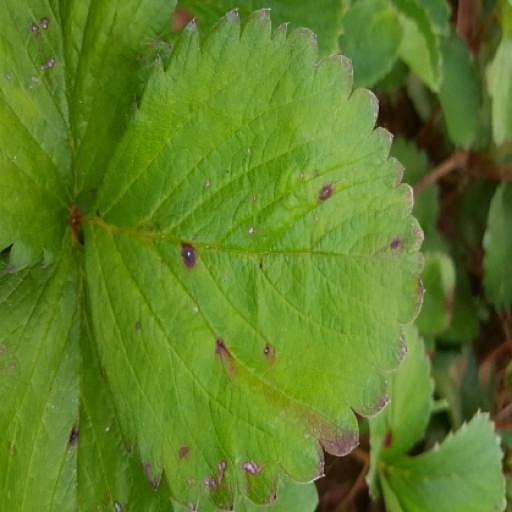Leaf Spot: (86, 6, 433, 511), (334, 230, 511, 511), (330, 0, 511, 273), (76, 323, 147, 500)
